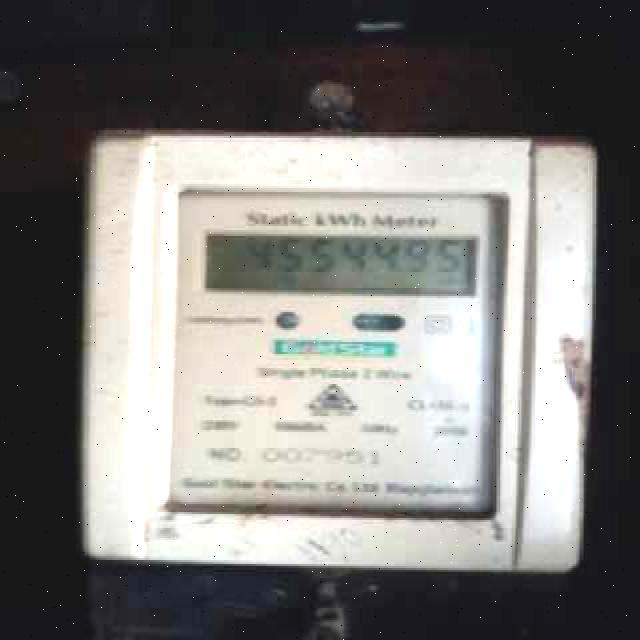LCD: (190, 221, 495, 306)
